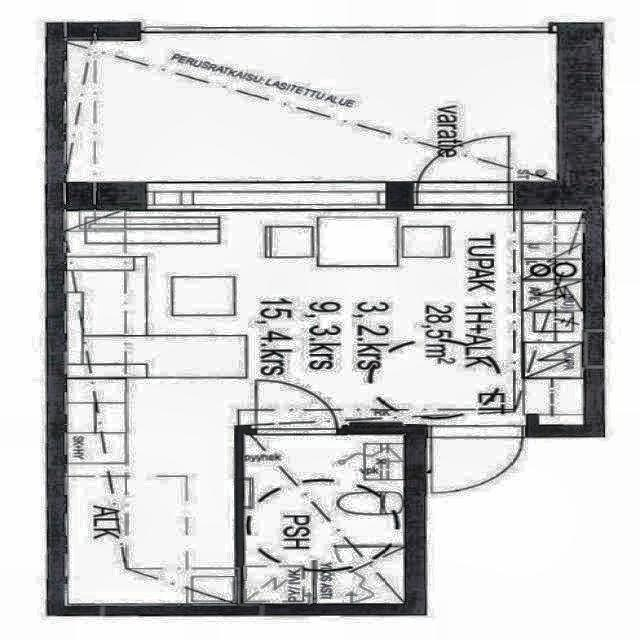room: (66, 33, 557, 182), (244, 435, 404, 604)
